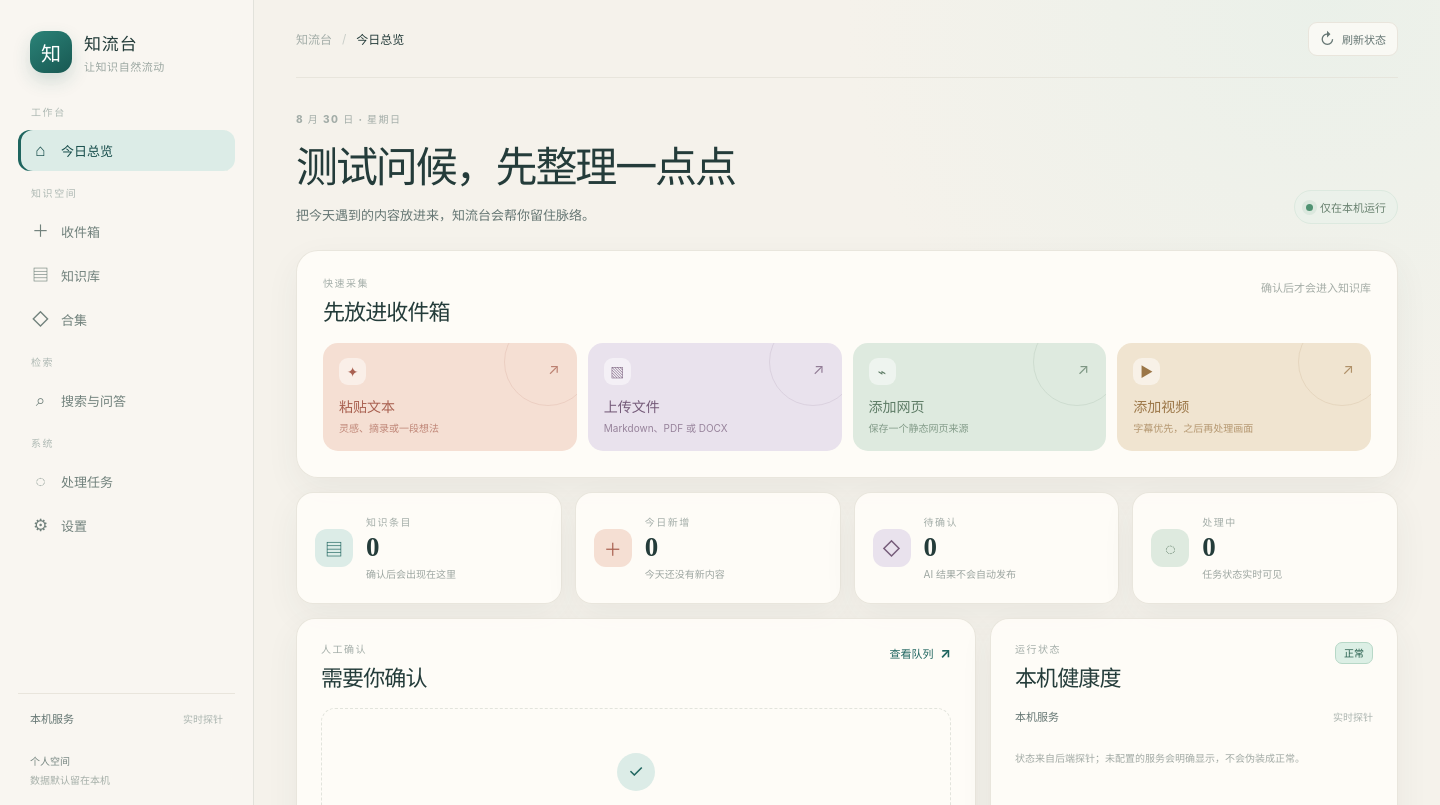
Test: 批次 A 统一采集 › 首页 添加视频 入口导航并预选 视频 模式
Check: the heading "测试问候，先整理一点点" is shown, box top-left (296, 133), bottom-right (735, 194)
Click the button "▶ 添加视频 字幕优先，之后再处理画面 ↗": [1244, 397] box top-left (1117, 343), bottom-right (1371, 451)
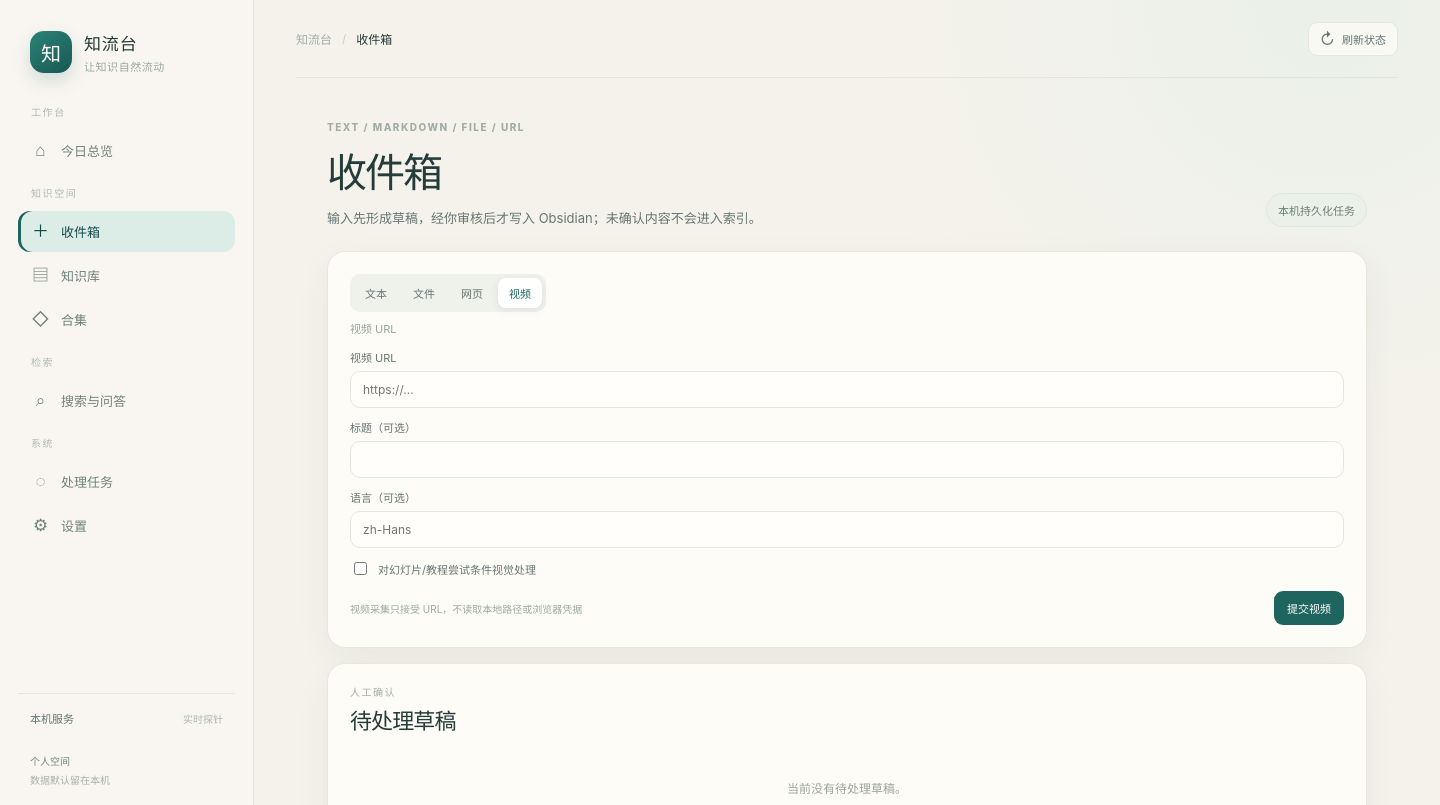
Check: the heading "收件箱" is shown, box top-left (327, 151), bottom-right (441, 196)
